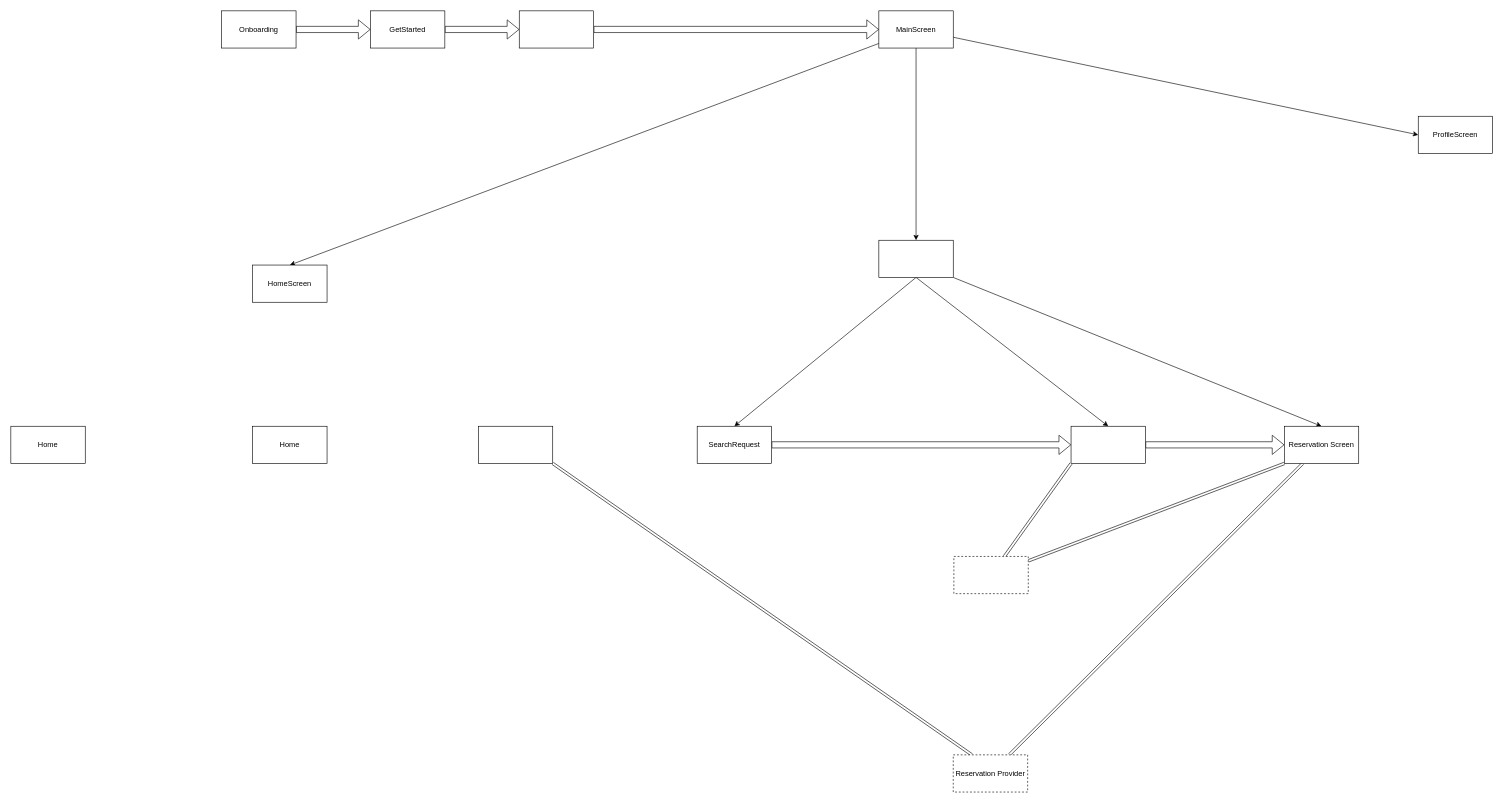
Image size: 1504x803. Some labels were removed from this diagram. The centre of each missing label's shape, as x and y in pixels:
"Auth" belongs at (x=556, y=29).
"Progress" belongs at (x=515, y=444).
"Search Provider" belongs at (x=990, y=575).
"Search Screen" belongs at (x=1107, y=444).
"SearchNavigation" belongs at (x=915, y=258).
